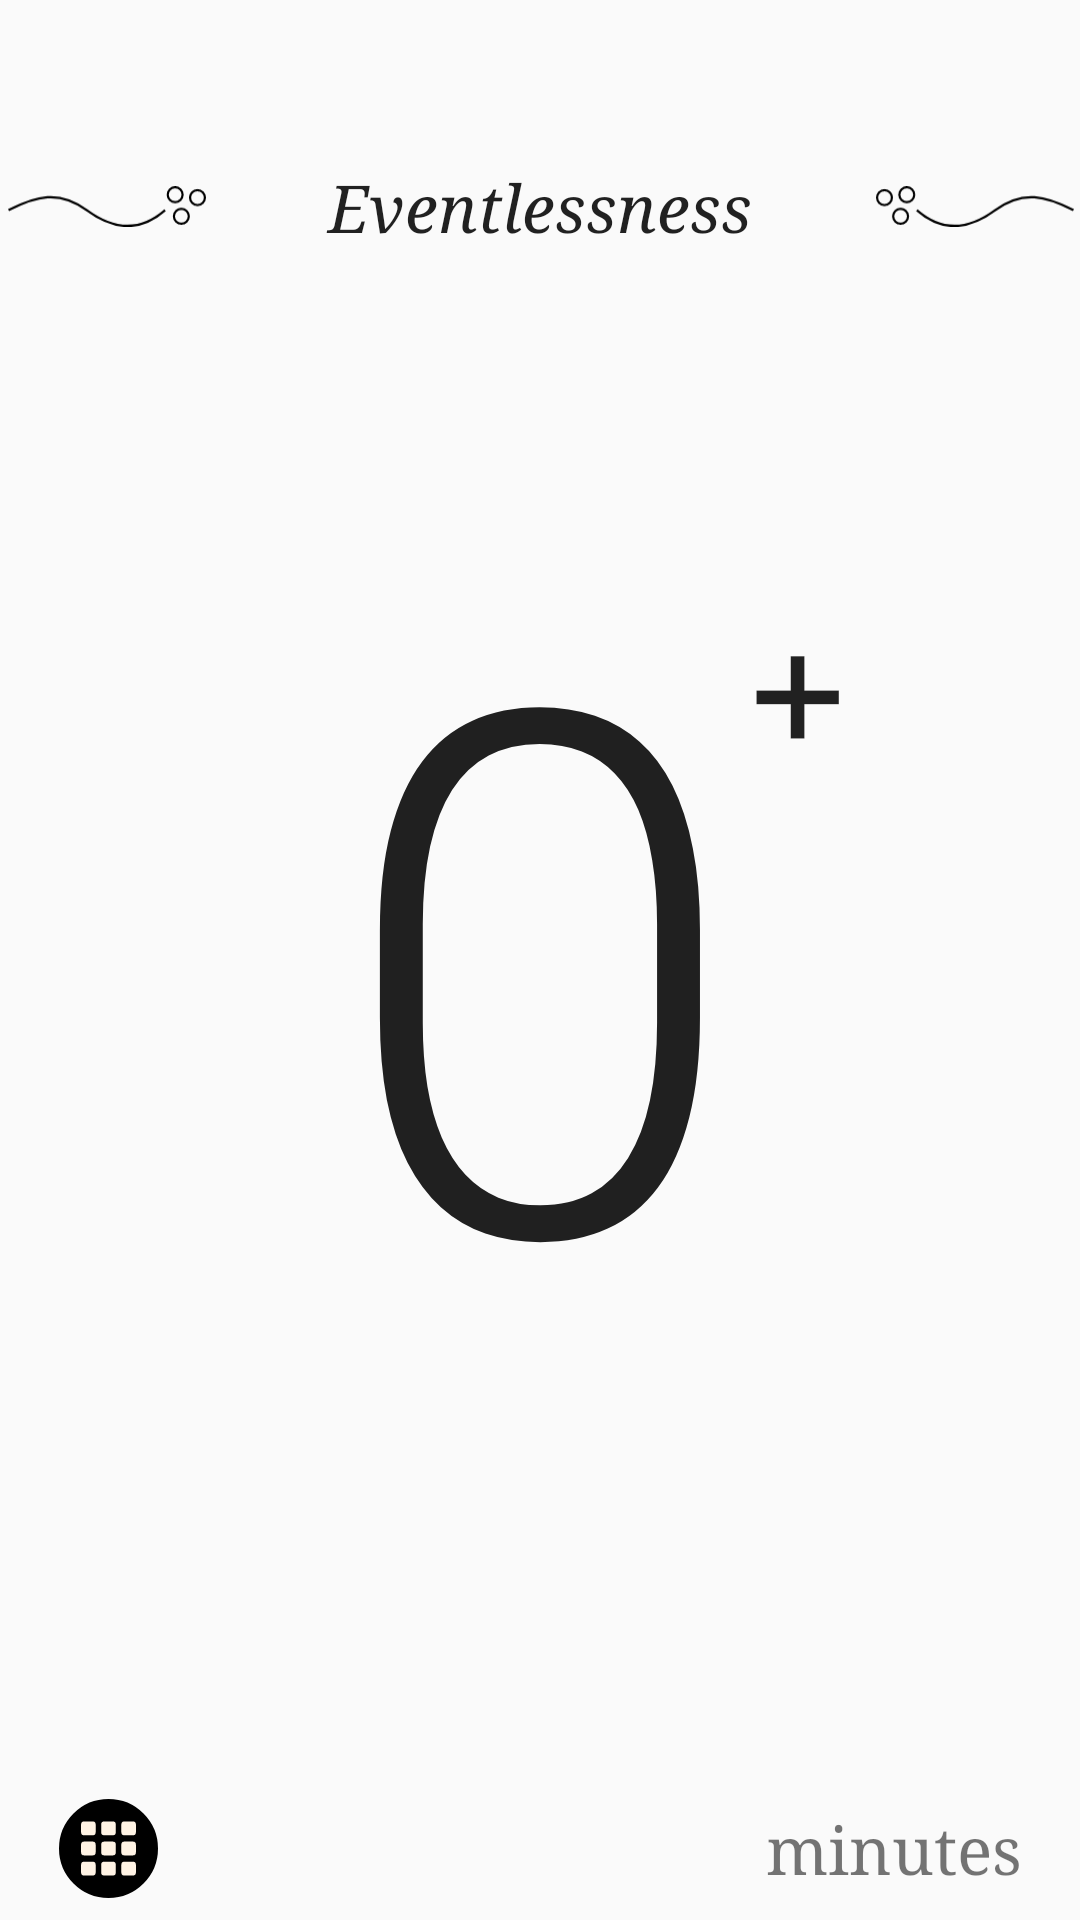

Icons on this 1080 x 1920 Android screen, each with the point to tap as point (x, y):
List of trackers: point (108, 1848)
